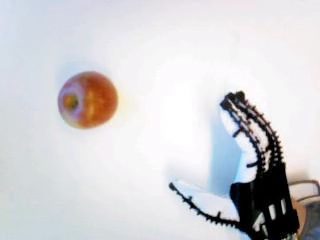apple: (55, 69, 120, 129)
hand: (167, 90, 298, 240)
